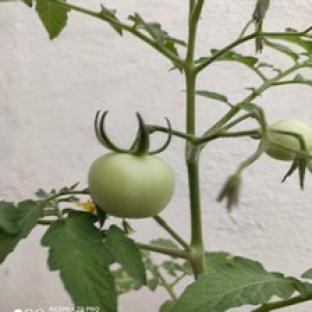Tomato: (88, 154, 174, 218), (267, 120, 311, 160)
